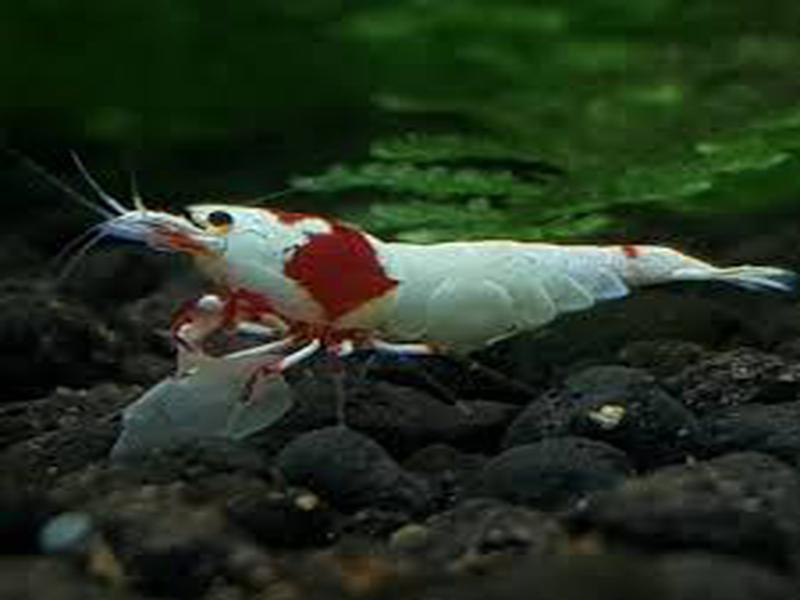shrimp: (103, 203, 793, 353)
